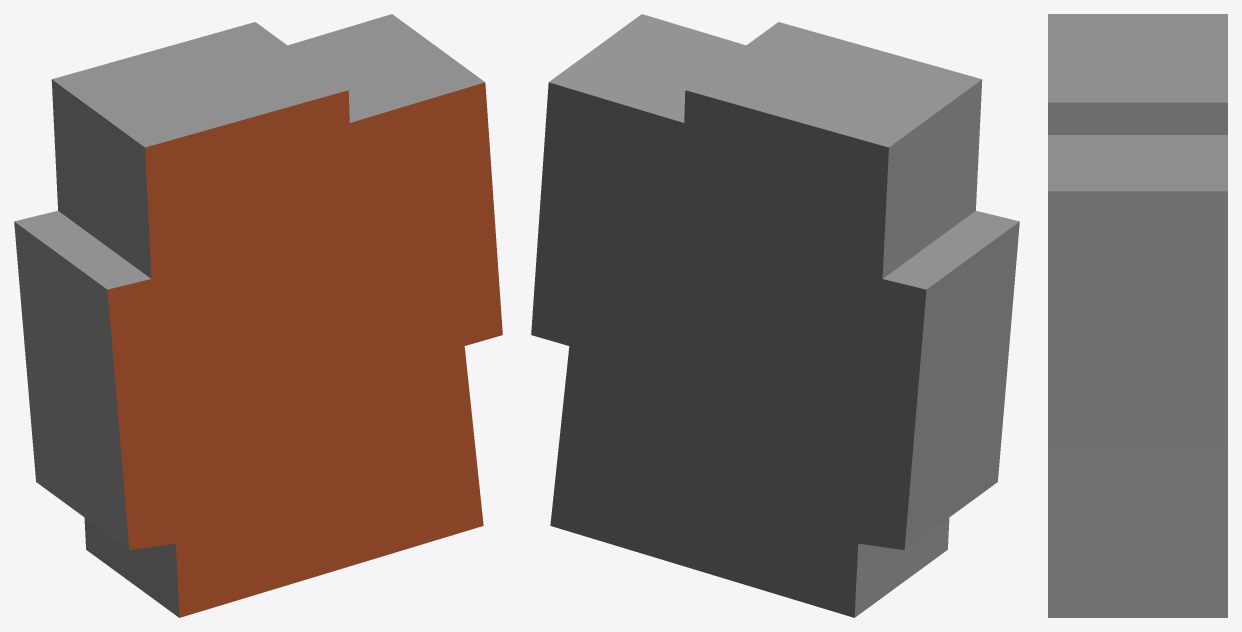
File: construction_0744_assumed_A_Casa_h6m.obj
The picture shows the model from 3 angles, left to right: view 1: azimuth 30°, elevation 25°; view 2: azimuth 150°, elevation 25°; view 3: azimuth 270°, elevation 25°; orthographic projection. The views are drawn at different scales.
Visible parts, largest first — view 1: construction_0744_assumed_A_Casa; view 2: construction_0744_assumed_A_Casa; view 3: construction_0744_assumed_A_Casa.
Part boxes in pixels (x1,y1,x2,y2): construction_0744_assumed_A_Casa: (14,14,502,617); construction_0744_assumed_A_Casa: (531,14,1019,617); construction_0744_assumed_A_Casa: (1048,14,1227,617).
Bounding box in the file's own units: 14.68 × 17.26 × 6.
